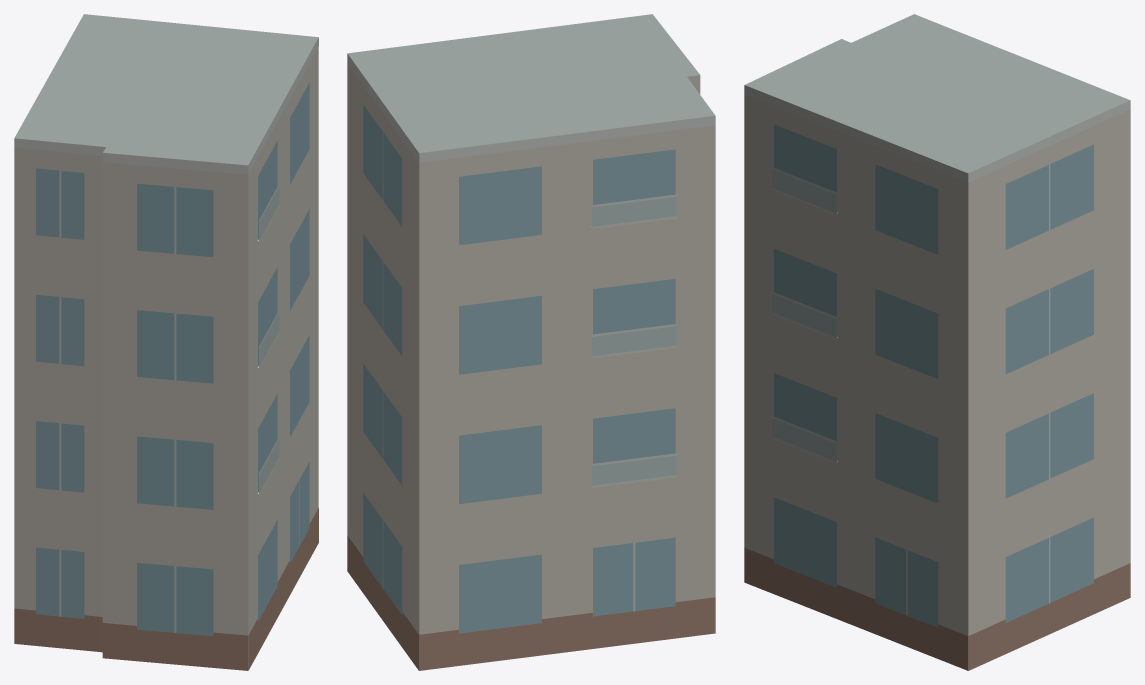
File: survey-upis-33033581.glb
The picture shows the model from 3 angles, left to right: view 1: azimuth 30°, elevation 25°; view 2: azimuth 150°, elevation 25°; view 3: azimuth 270°, elevation 25°; orthographic projection. The views are drawn at different scales.
Parts seen in each view (by area): view 1: survey-upis-33033581.tmp; view 2: survey-upis-33033581.tmp; view 3: survey-upis-33033581.tmp.
Boxes of the visible parts, <box> form: survey-upis-33033581.tmp: <box>14,14,318,670</box>; survey-upis-33033581.tmp: <box>347,14,715,670</box>; survey-upis-33033581.tmp: <box>744,14,1130,670</box>.
Bounding box in the file's own units: 9.12 × 13.25 × 9.33.
